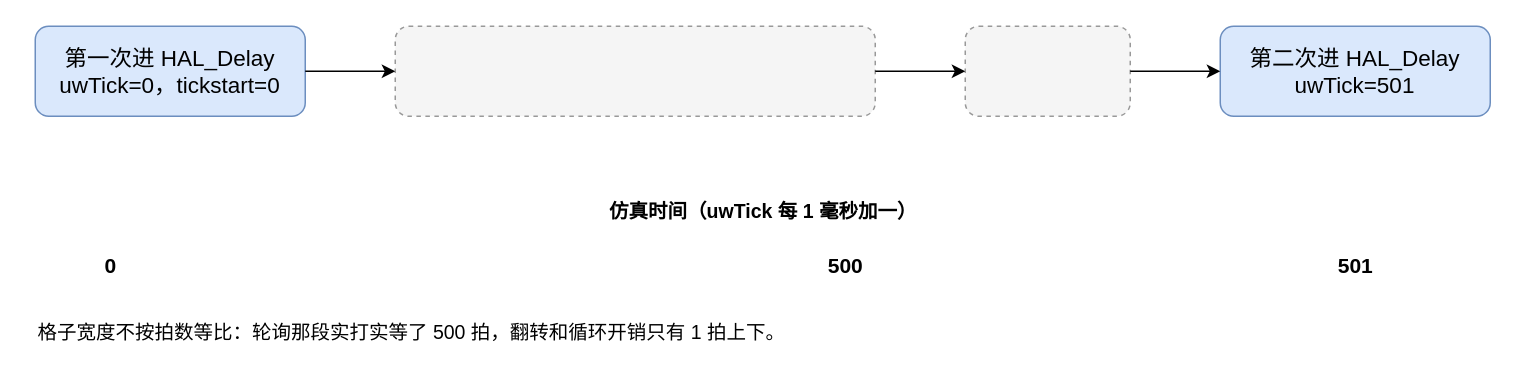
Image size: 1526x383. Some labels were removed from this diagram. The shapes that lost their labels are listed below. From the top down, each one's centre as x and y in pixels, then its label:
the point at 634,70: 原地轮询：uwTick 追到 tickstart+500
the point at 1047,70: 翻转 GPIO + 循环开销
